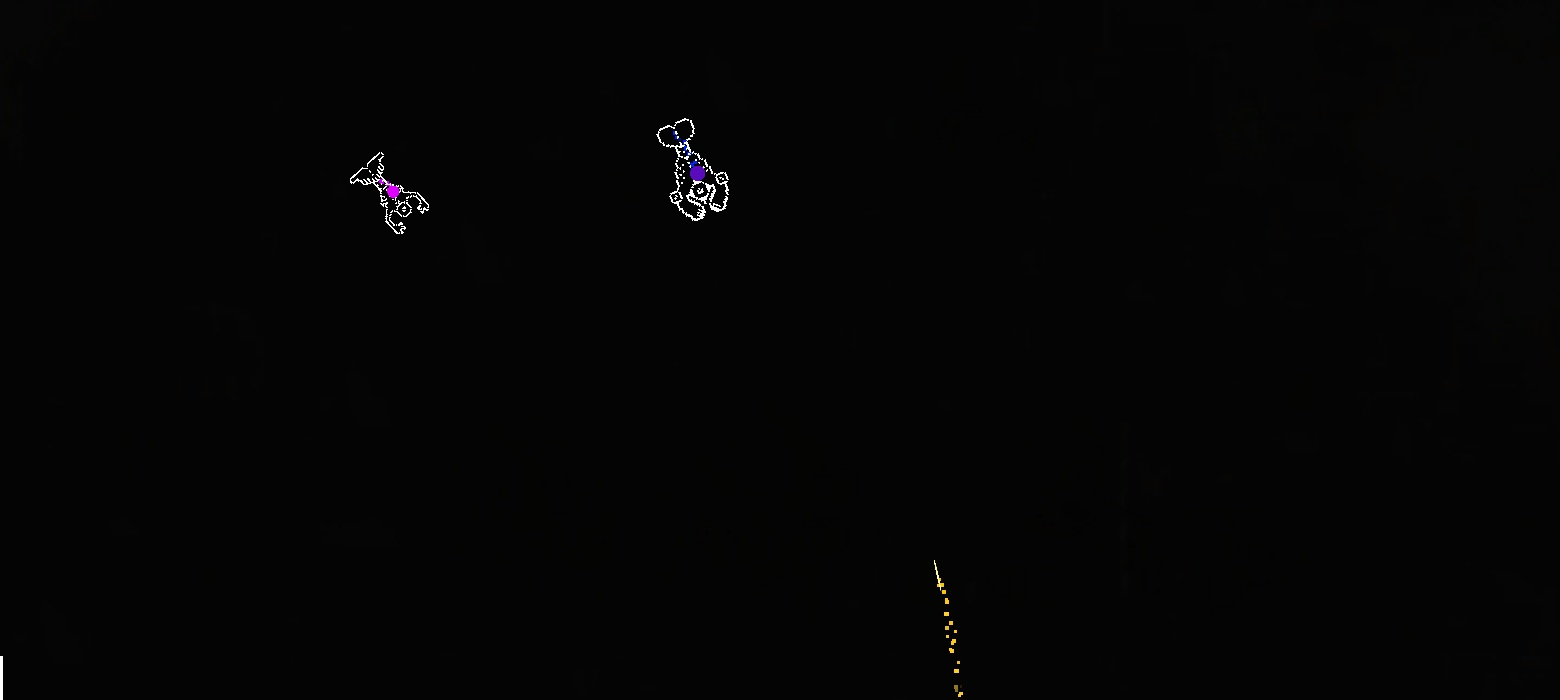enemy: (656, 118, 729, 221), (350, 151, 430, 235)
